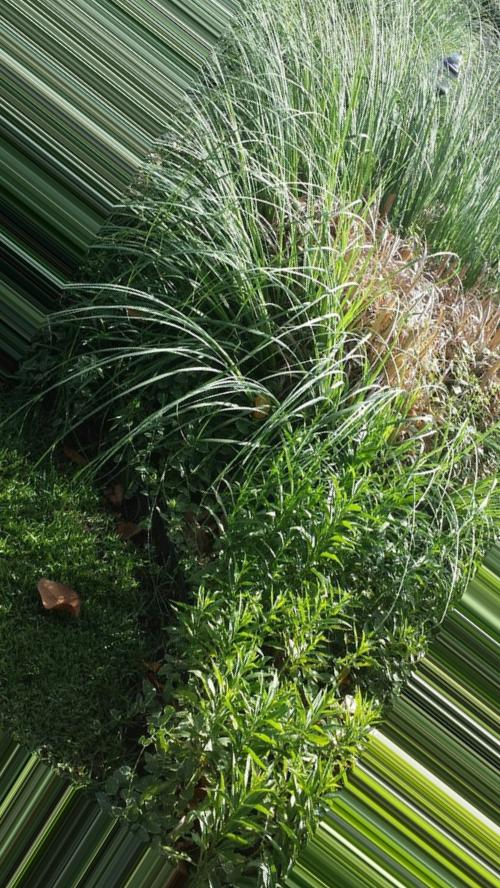patch: (350, 242, 477, 390), (33, 551, 95, 630), (327, 197, 419, 246), (346, 189, 420, 237), (410, 396, 500, 430)
